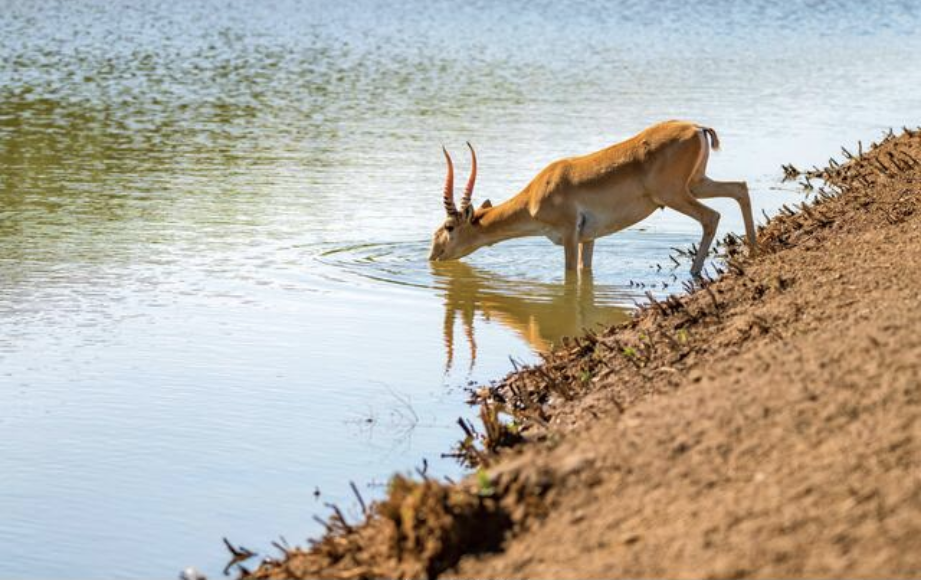saiga: (403, 102, 770, 275)
